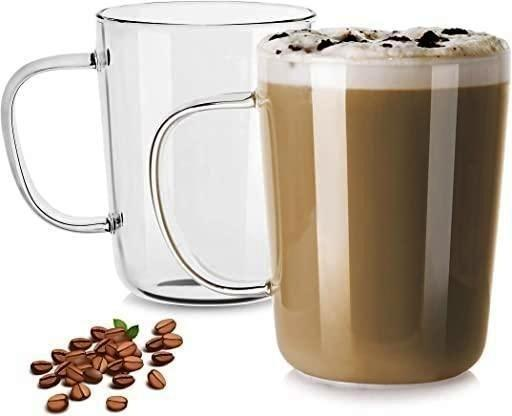glass-mug: (146, 22, 512, 395), (0, 0, 320, 313)
